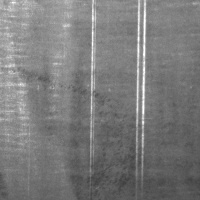scratches: (130, 0, 149, 194), (84, 0, 99, 178)
